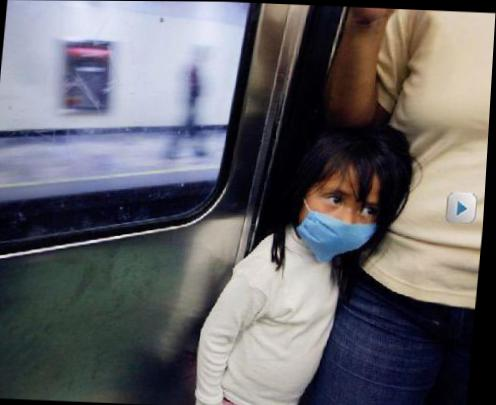WRONG: (302, 180, 384, 258)
